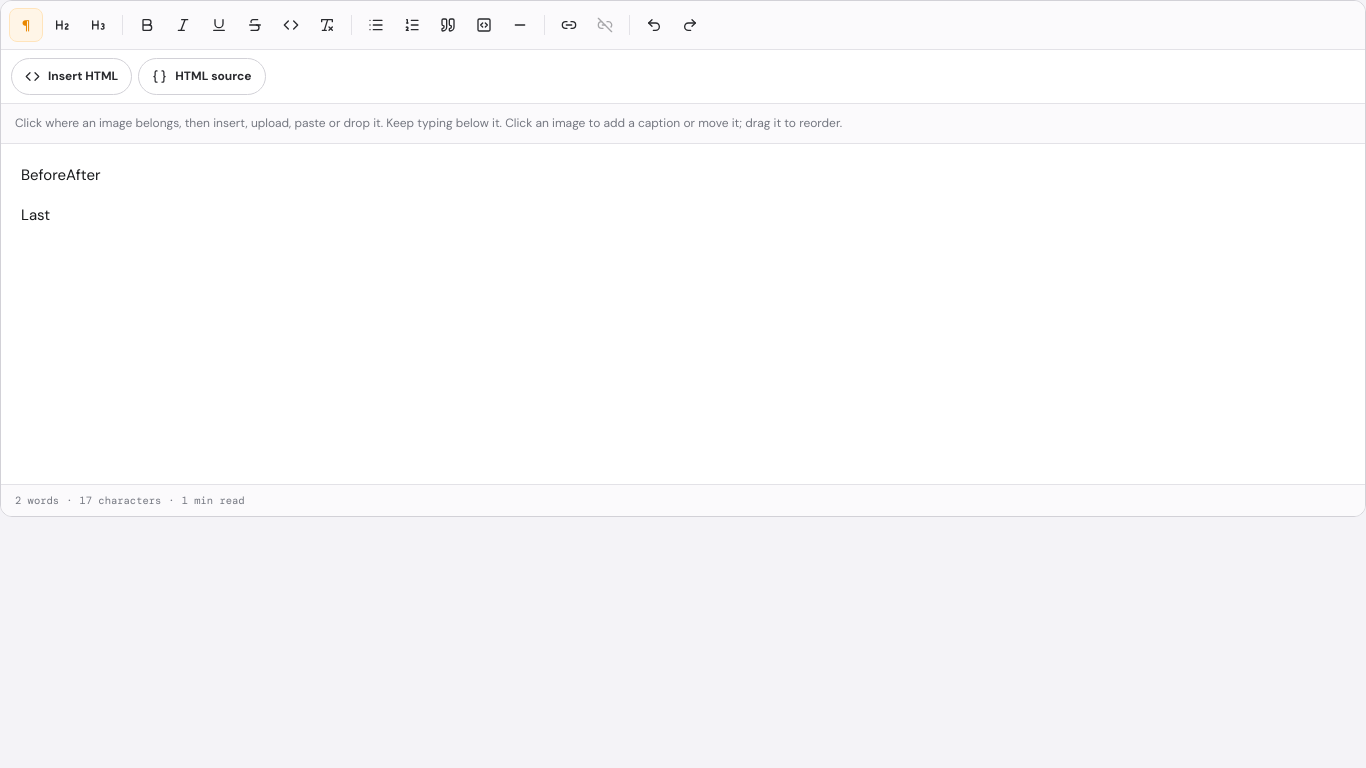
Test: RichTextEditor · tutorial authoring › inserts a safe HTML snippet at the saved cursor with a sanitized preview
Click the button "Insert HTML".
click(72, 76)  # box [11, 58, 132, 95]
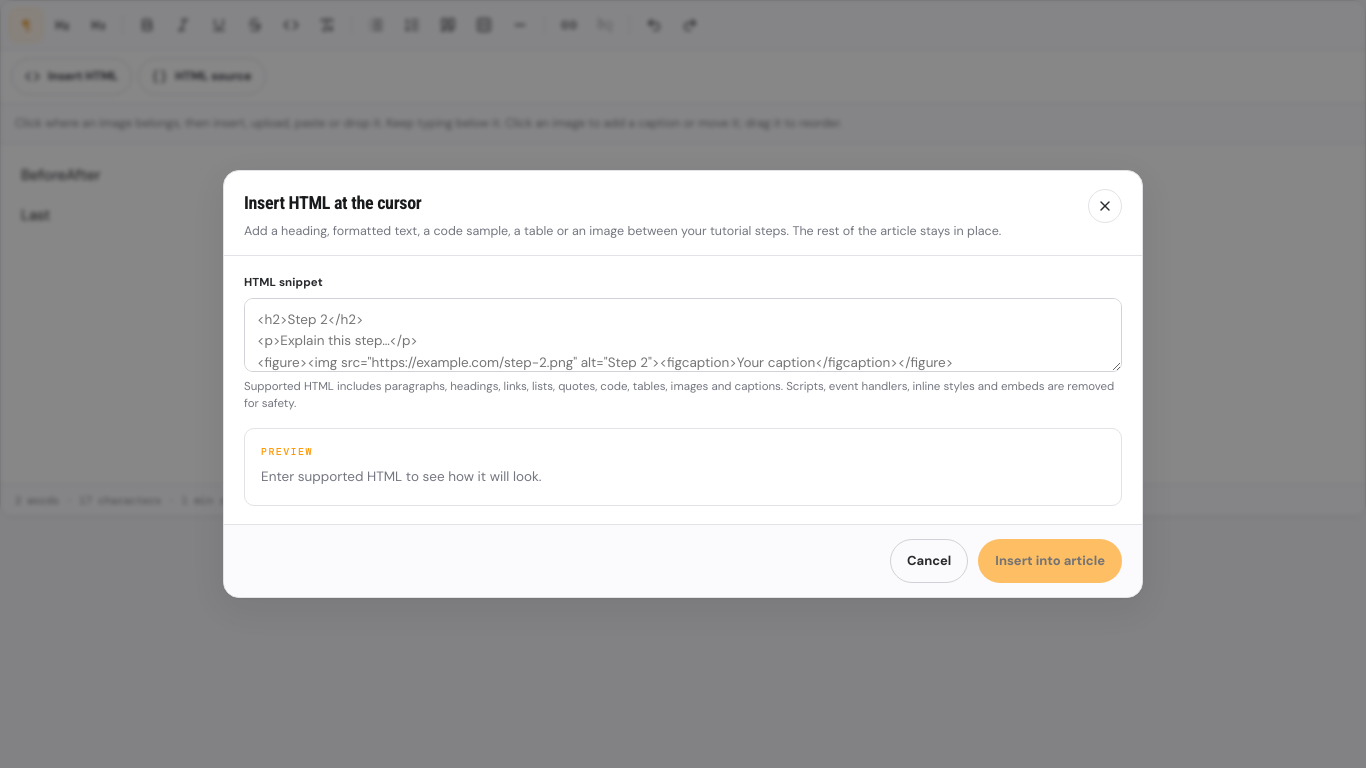
Replace the text in the text box labelled "HTML snippet" with "<h2 onclick=\"bad()\">Step two</h2><table><tr><td>Example</td></tr></table><script>bad()</script>" at (683, 335), box [244, 298, 1122, 372]
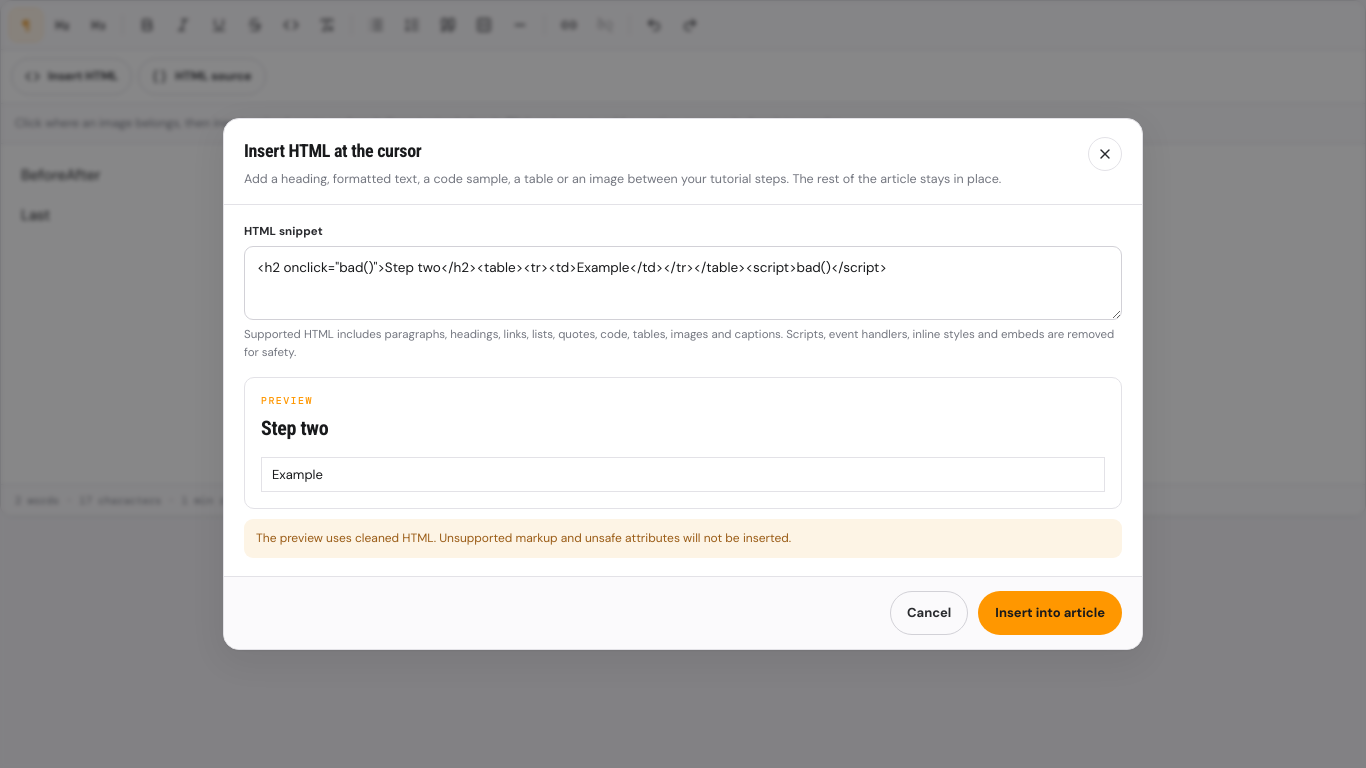
Result: the element named "HTML snippet preview" shows "Step two" at [261, 416, 328, 440]
Click the button "Insert into article".
click(1050, 613)  # box [978, 590, 1122, 635]
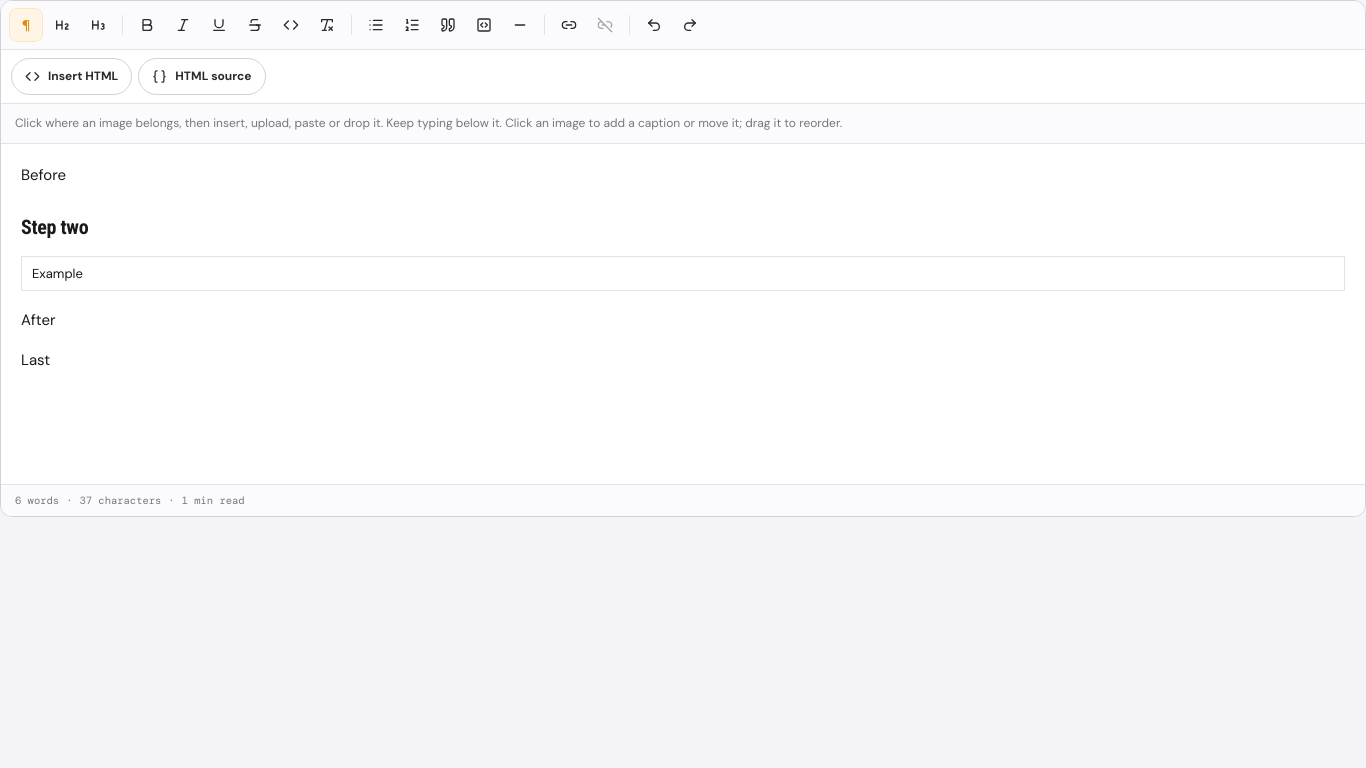
Result: the field named "Article content" reads "Before Step two Example After Last" at [1, 144, 1365, 484]
